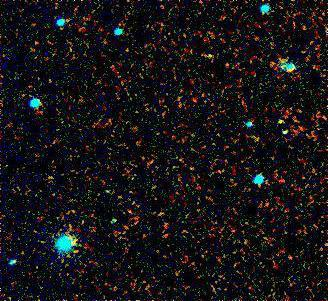star: (262, 105, 292, 135)
